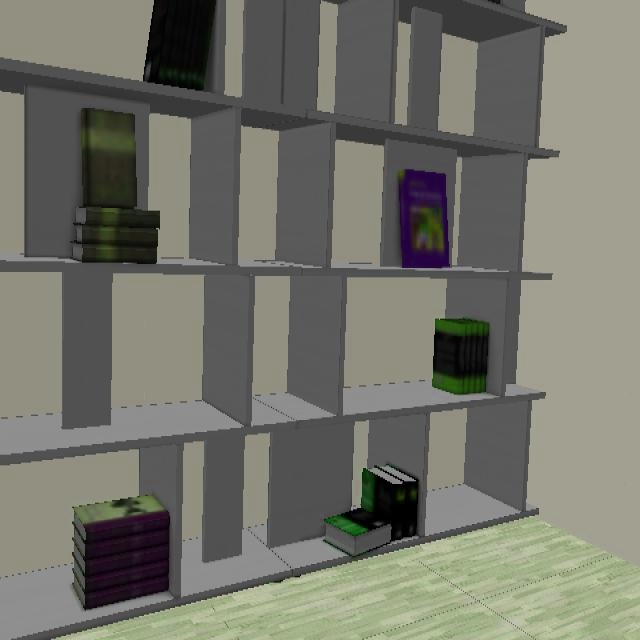book: (73, 111, 160, 265), (73, 499, 173, 611), (323, 464, 418, 559), (143, 0, 221, 92), (398, 169, 450, 268), (433, 319, 493, 397)
